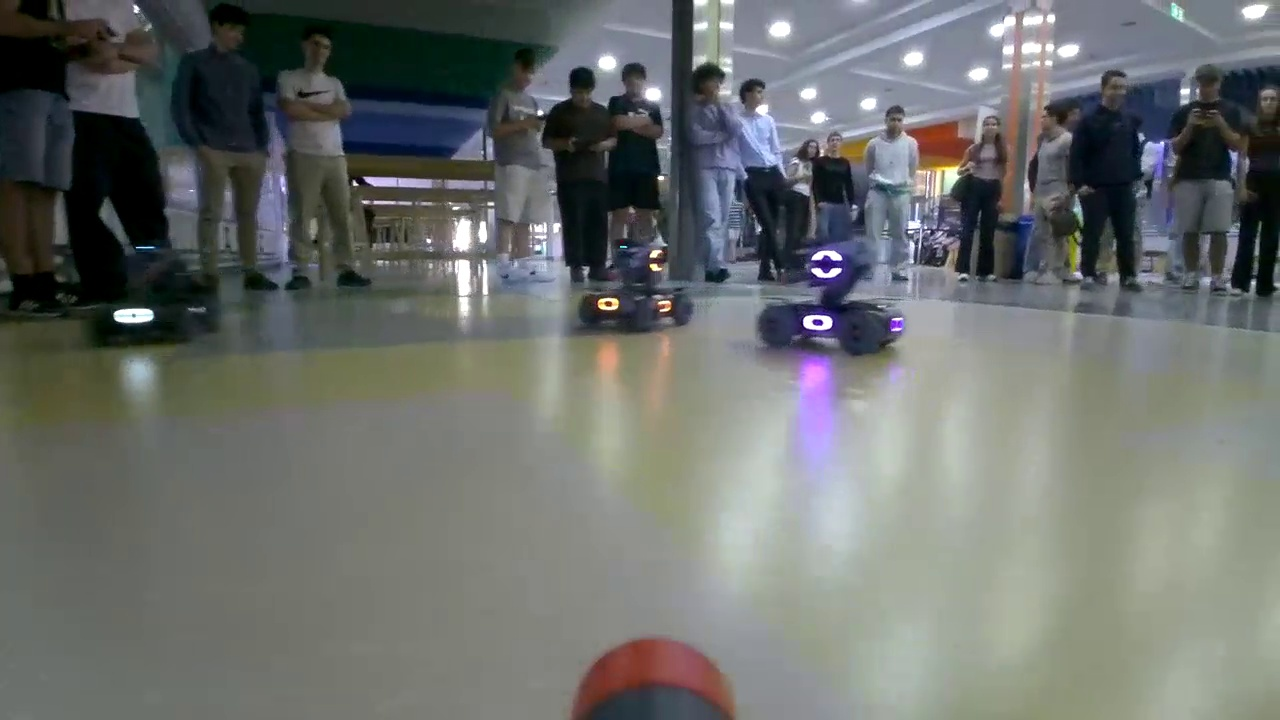robot: (756, 244, 912, 364), (80, 242, 240, 344), (574, 236, 694, 326)
